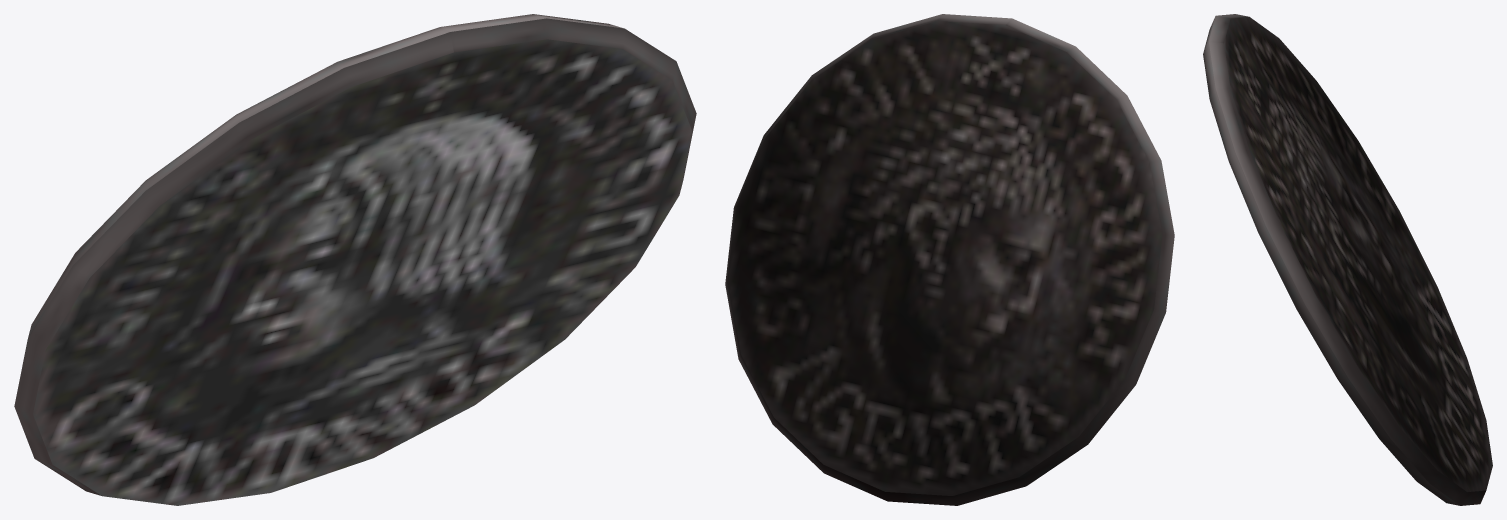
Rendered from sor_del.ico.obj.
The picture shows the model from 3 angles, left to right: view 1: azimuth 30°, elevation 25°; view 2: azimuth 150°, elevation 25°; view 3: azimuth 270°, elevation 25°; orthographic projection. The views are drawn at different scales.
Size of the model in its own units: 2.39 by 2.07 by 1.24.
1 material, 1 textured.
